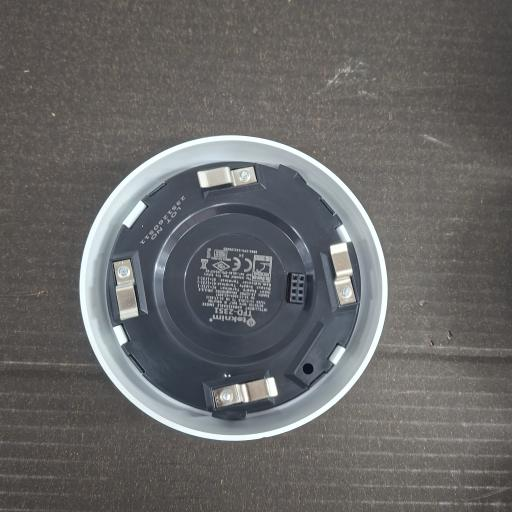yaysiz: (201, 369, 280, 418), (108, 250, 149, 326), (320, 242, 360, 315), (196, 164, 258, 190)
